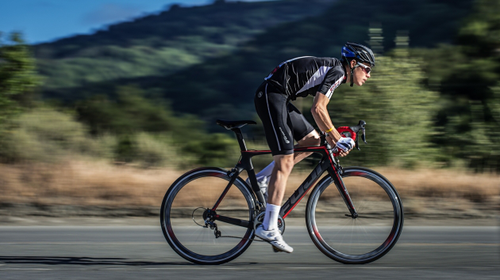bikerider: (152, 33, 411, 276)
